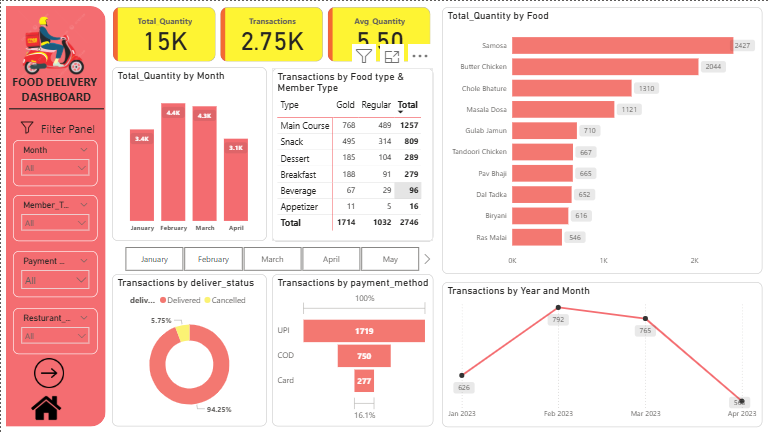

This screenshot's page, from the dashboard's own definition file:
{"tool":"powerbi","page":{"name":"Page 1","canvas":[1280,720],"ordinal":0},"visuals":[{"type":"shape","box":[8.1,8.1,166.3,701.2],"z":0},{"type":"image","box":[7.9,9,158.3,132.3],"z":1000},{"type":"textbox","box":[12.8,116.3,158.1,70.9],"z":2000},{"type":"shape","box":[13.2,165.4,158,29.3],"z":3000},{"type":"cardVisual","fields":{"Data":["Sales Data.Total_Quantity","Sales Data.Transactions","Sales Data.Avg_Quantity"]},"box":[181.4,9.3,539.5,103.5],"z":4000},{"type":"clusteredColumnChart","fields":{"Y":["Sales Data.Total_Quantity"],"Category":["Sales Data.orderDate.Variation.Date Hierarchy.Month"]},"box":[184.9,110.5,258.1,289.5],"z":5000},{"type":"pivotTable","title":"Transactions by Food type & Member Type","fields":{"Rows":["Food_Details.Type"],"Columns":["Customer Details.member_Type"],"Values":["Sales Data.Transactions"]},"box":[451.5,111.1,269,289.5],"z":6000},{"type":"donutChart","fields":{"Category":["Sales Data.deliver_status"],"Y":["Sales Data.Transactions"]},"box":[185.2,455.6,258,253.9],"z":7000},{"type":"funnel","fields":{"Category":["Sales Data.payment_method"],"Y":["Sales Data.Transactions"]},"box":[451.5,455.6,269,253.9],"z":8000},{"type":"clusteredBarChart","fields":{"Y":["Sales Data.Total_Quantity"],"Category":["Food_Details.Food"]},"box":[734.9,9.3,533.7,445.4],"z":9000},{"type":"lineChart","fields":{"Y":["Sales Data.Transactions"],"Category":["Sales Data.orderDate.Variation.Date Hierarchy.Year","Sales Data.orderDate.Variation.Date Hierarchy.Month"]},"box":[735.5,467.9,533.8,241.5],"z":10000},{"type":"slicer","fields":{"Values":["Sales Data.orderDate.Variation.Date Hierarchy.Month"]},"box":[20.6,231.9,141.3,76.8],"z":11000},{"type":"slicer","fields":{"Values":["Customer Details.member_Type"]},"box":[20.6,323.8,141.3,76.8],"z":12000},{"type":"slicer","fields":{"Values":["Sales Data.payment_method"]},"box":[20.6,417.2,141.3,76.8],"z":13000},{"type":"slicer","fields":{"Values":["Resturant_Details.Resturant_type"]},"box":[20.6,511.8,141.3,76.8],"z":14000},{"type":"slicer","fields":{"Values":["Sales Data.orderDate.Variation.Date Hierarchy.Month"]},"box":[180.9,402.5,539.3,53.1],"z":15000},{"type":"image","box":[24.7,194.9,37,31.6],"z":16000},{"type":"textbox","box":[61.7,194.9,123.5,37],"z":17000},{"type":"image","box":[43.9,649.1,64.5,60.4],"z":18000},{"type":"image","box":[46.7,587.3,67.2,67.2],"z":19000}]}

Visuals, with their boxes in screenshot pixels (x1, y1, x2, y2), scaled from the page's 1280x720 canvas onto the 769x433 screenshot:
shape: bbox(5, 5, 105, 427)
image: bbox(5, 5, 100, 85)
textbox: bbox(8, 70, 103, 113)
shape: bbox(8, 99, 103, 117)
cardVisual - Sales Data.Total_Quantity x Sales Data.Transactions: bbox(109, 6, 433, 68)
clusteredColumnChart - Sales Data.Total_Quantity x Sales Data.orderDate.Variation.Date Hierarchy.Month: bbox(111, 66, 266, 241)
"Transactions by Food type & Member Type" pivotTable: bbox(271, 67, 433, 241)
donutChart - Sales Data.deliver_status x Sales Data.Transactions: bbox(111, 274, 266, 427)
funnel - Sales Data.payment_method x Sales Data.Transactions: bbox(271, 274, 433, 427)
clusteredBarChart - Sales Data.Total_Quantity x Food_Details.Food: bbox(442, 6, 762, 273)
lineChart - Sales Data.Transactions x Sales Data.orderDate.Variation.Date Hierarchy.Year: bbox(442, 281, 763, 427)
slicer - Sales Data.orderDate.Variation.Date Hierarchy.Month: bbox(12, 139, 97, 186)
slicer - Customer Details.member_Type: bbox(12, 195, 97, 241)
slicer - Sales Data.payment_method: bbox(12, 251, 97, 297)
slicer - Resturant_Details.Resturant_type: bbox(12, 308, 97, 354)
slicer - Sales Data.orderDate.Variation.Date Hierarchy.Month: bbox(109, 242, 433, 274)
image: bbox(15, 117, 37, 136)
textbox: bbox(37, 117, 111, 139)
image: bbox(26, 390, 65, 427)
image: bbox(28, 353, 68, 394)
